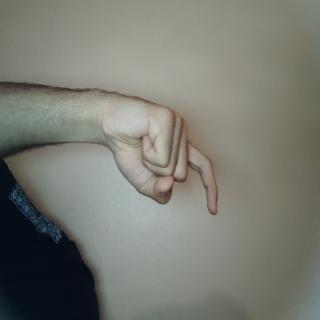RAA: (64, 122, 169, 320)
